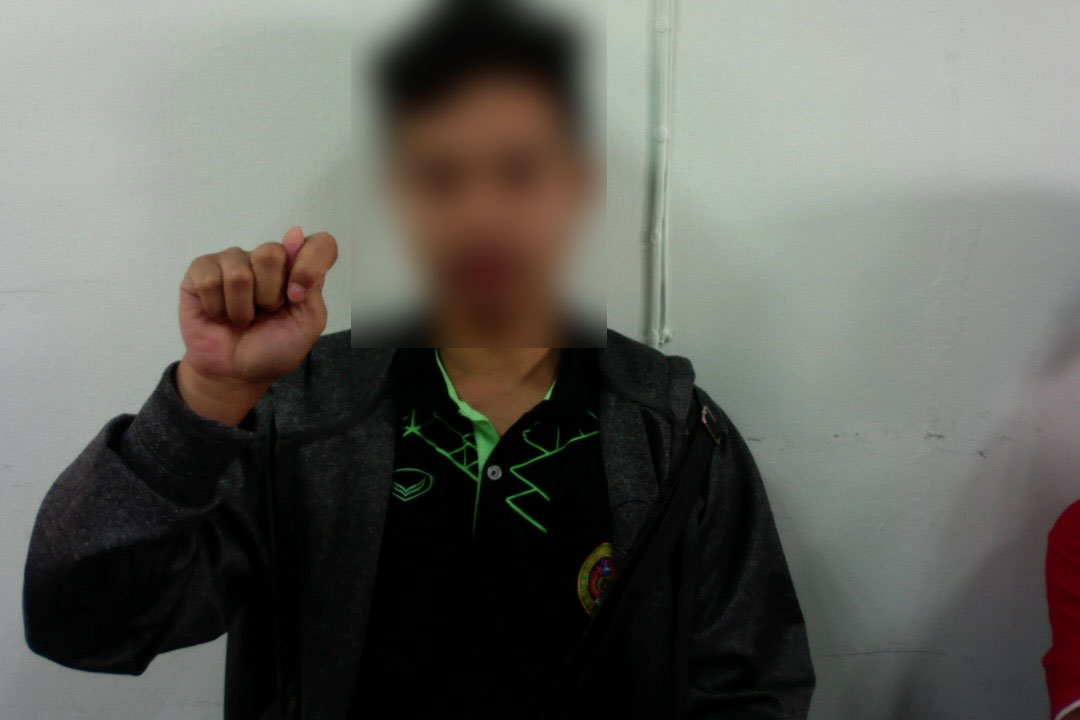tor: (169, 224, 339, 394)
